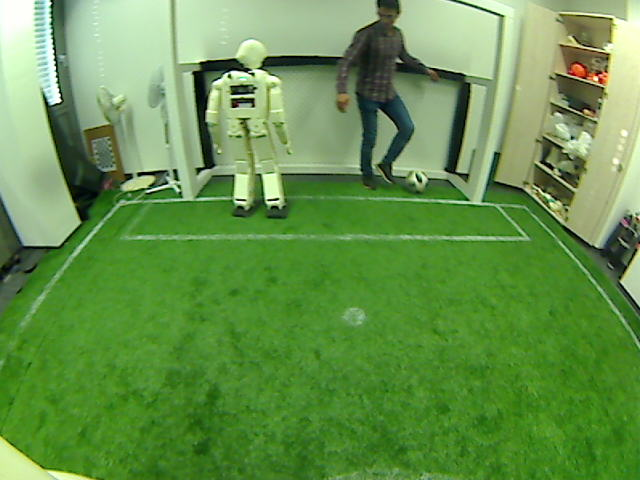ball: (404, 170, 426, 194)
goalpost: (467, 165, 486, 204), (181, 165, 198, 199)
robot: (227, 141, 293, 216)
